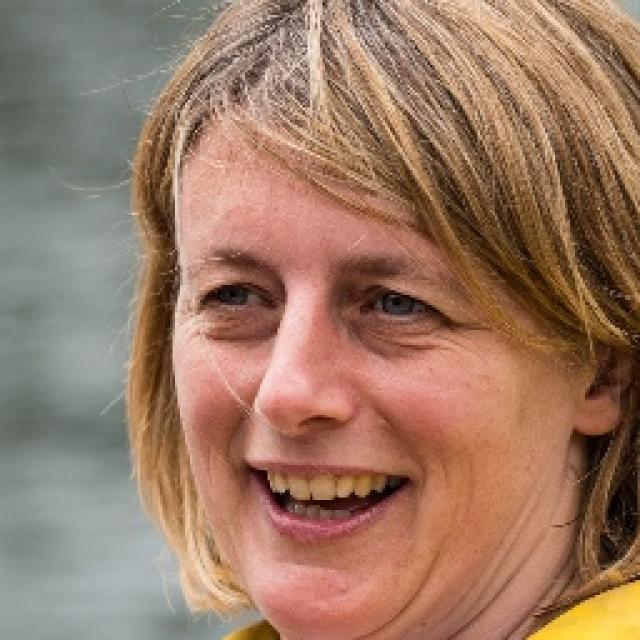earlobe: (576, 410, 629, 441)
eye: (197, 277, 278, 315), (352, 290, 442, 322)
nose: (252, 417, 372, 448)
wholeear: (573, 285, 640, 442)
